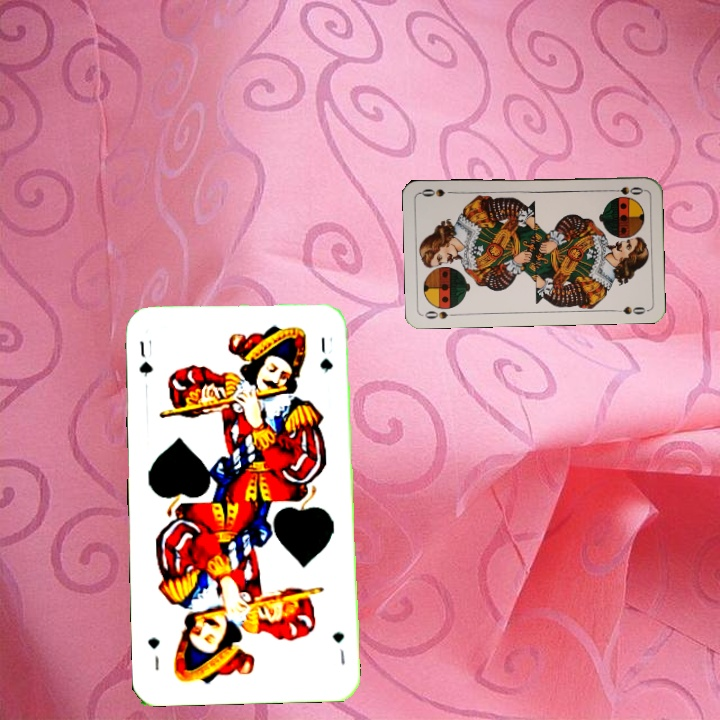GU: (135, 336, 155, 379), (328, 628, 348, 667)
SO: (606, 182, 646, 197), (421, 307, 460, 322)
